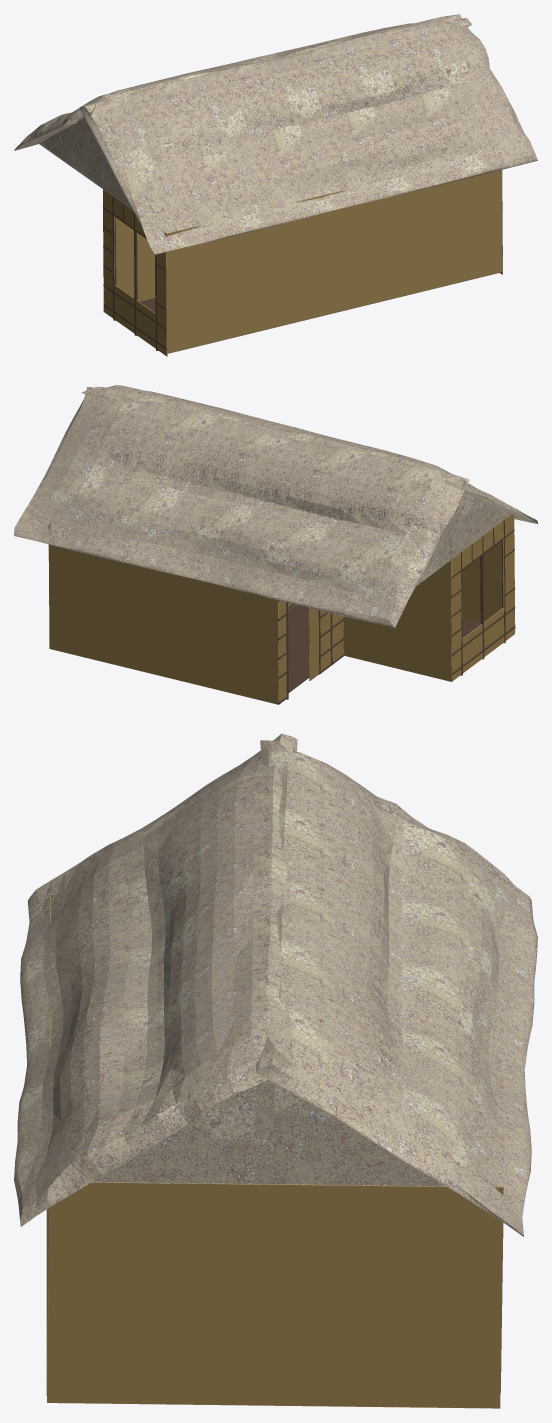
3 renders of one model, top to bottom at view 1: azimuth 30°, elevation 25°; view 2: azimuth 150°, elevation 25°; view 3: azimuth 270°, elevation 25°, orthographic. The views are drawn at different scales.
Parts seen in each view (by area): view 1: 1; view 2: 1; view 3: 1.
Boxes of the visible parts, x1,y1,x2,y2 form: 1: (14, 14, 537, 356); 1: (14, 385, 537, 704); 1: (14, 733, 537, 1408).
Bounding box in the file's own units: 41.79 × 22.27 × 27.68.
5 materials, 5 textured.
